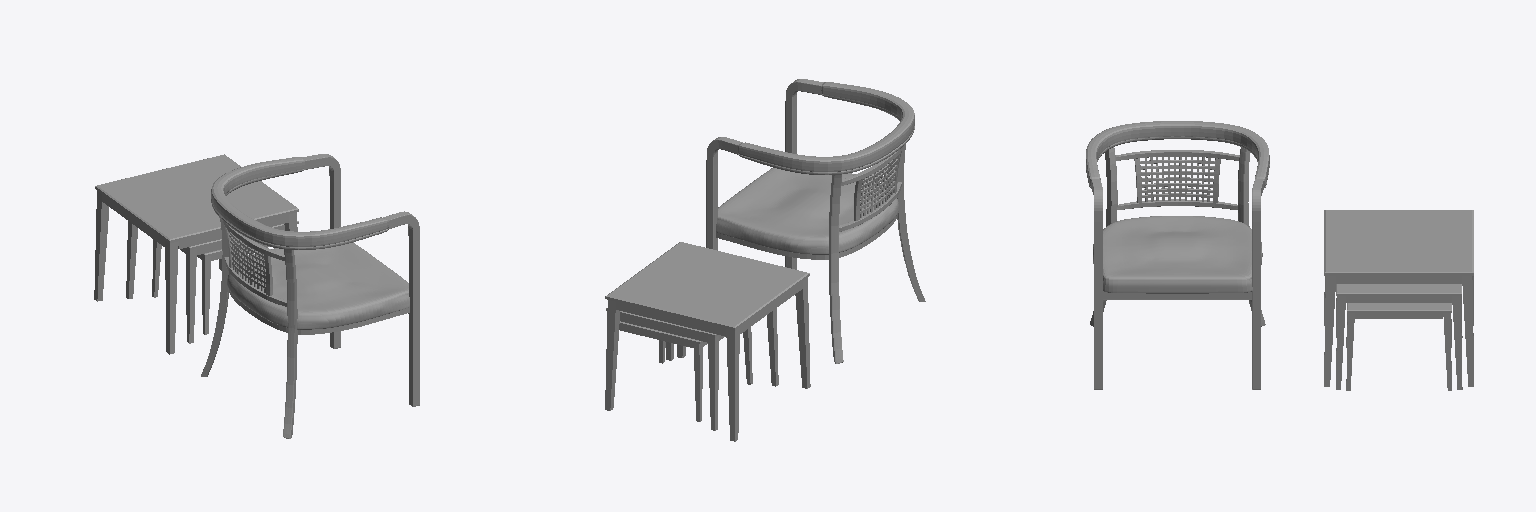
Rendered from Car_park_asset.obj.
3 views of the same model, side by side, from view 1: azimuth 30°, elevation 25°; view 2: azimuth 150°, elevation 25°; view 3: azimuth 270°, elevation 25° (orthographic).
Parts seen in each view (by area): view 1: stool.002_Cube.003, Chair_seat.001, frame.003_Cube.004, rail.001_Cube.002, stool.001_Cube.003, stool_Cube.003, frame.002_Cube.001; view 2: stool.002_Cube.003, Chair_seat.001, frame.003_Cube.004, rail.001_Cube.002, stool.001_Cube.003, stool_Cube.003, frame.002_Cube.001; view 3: stool.002_Cube.003, Chair_seat.001, frame.003_Cube.004, rail.001_Cube.002, stool.001_Cube.003, stool_Cube.003.
Part boxes in pixels (bbox=[...]): stool.002_Cube.003: bbox=[94, 154, 298, 354]; Chair_seat.001: bbox=[227, 242, 409, 329]; frame.003_Cube.004: bbox=[201, 154, 419, 438]; rail.001_Cube.002: bbox=[211, 157, 388, 249]; stool.001_Cube.003: bbox=[126, 221, 298, 343]; stool_Cube.003: bbox=[152, 239, 269, 334]; frame.002_Cube.001: bbox=[229, 290, 409, 334]; stool.002_Cube.003: bbox=[605, 242, 810, 441]; Chair_seat.001: bbox=[716, 168, 898, 254]; frame.003_Cube.004: bbox=[706, 79, 925, 363]; rail.001_Cube.002: bbox=[738, 82, 914, 174]; stool.001_Cube.003: bbox=[606, 308, 778, 430]; stool_Cube.003: bbox=[614, 321, 752, 421]; frame.002_Cube.001: bbox=[716, 214, 897, 259]; stool.002_Cube.003: bbox=[1324, 210, 1473, 386]; Chair_seat.001: bbox=[1093, 216, 1262, 293]; frame.003_Cube.004: bbox=[1090, 147, 1265, 389]; rail.001_Cube.002: bbox=[1086, 121, 1269, 187]; stool.001_Cube.003: bbox=[1336, 284, 1462, 389]; stool_Cube.003: bbox=[1346, 303, 1451, 390].
Size of the model in its own units: 0.5797 by 0.7184 by 1.28.